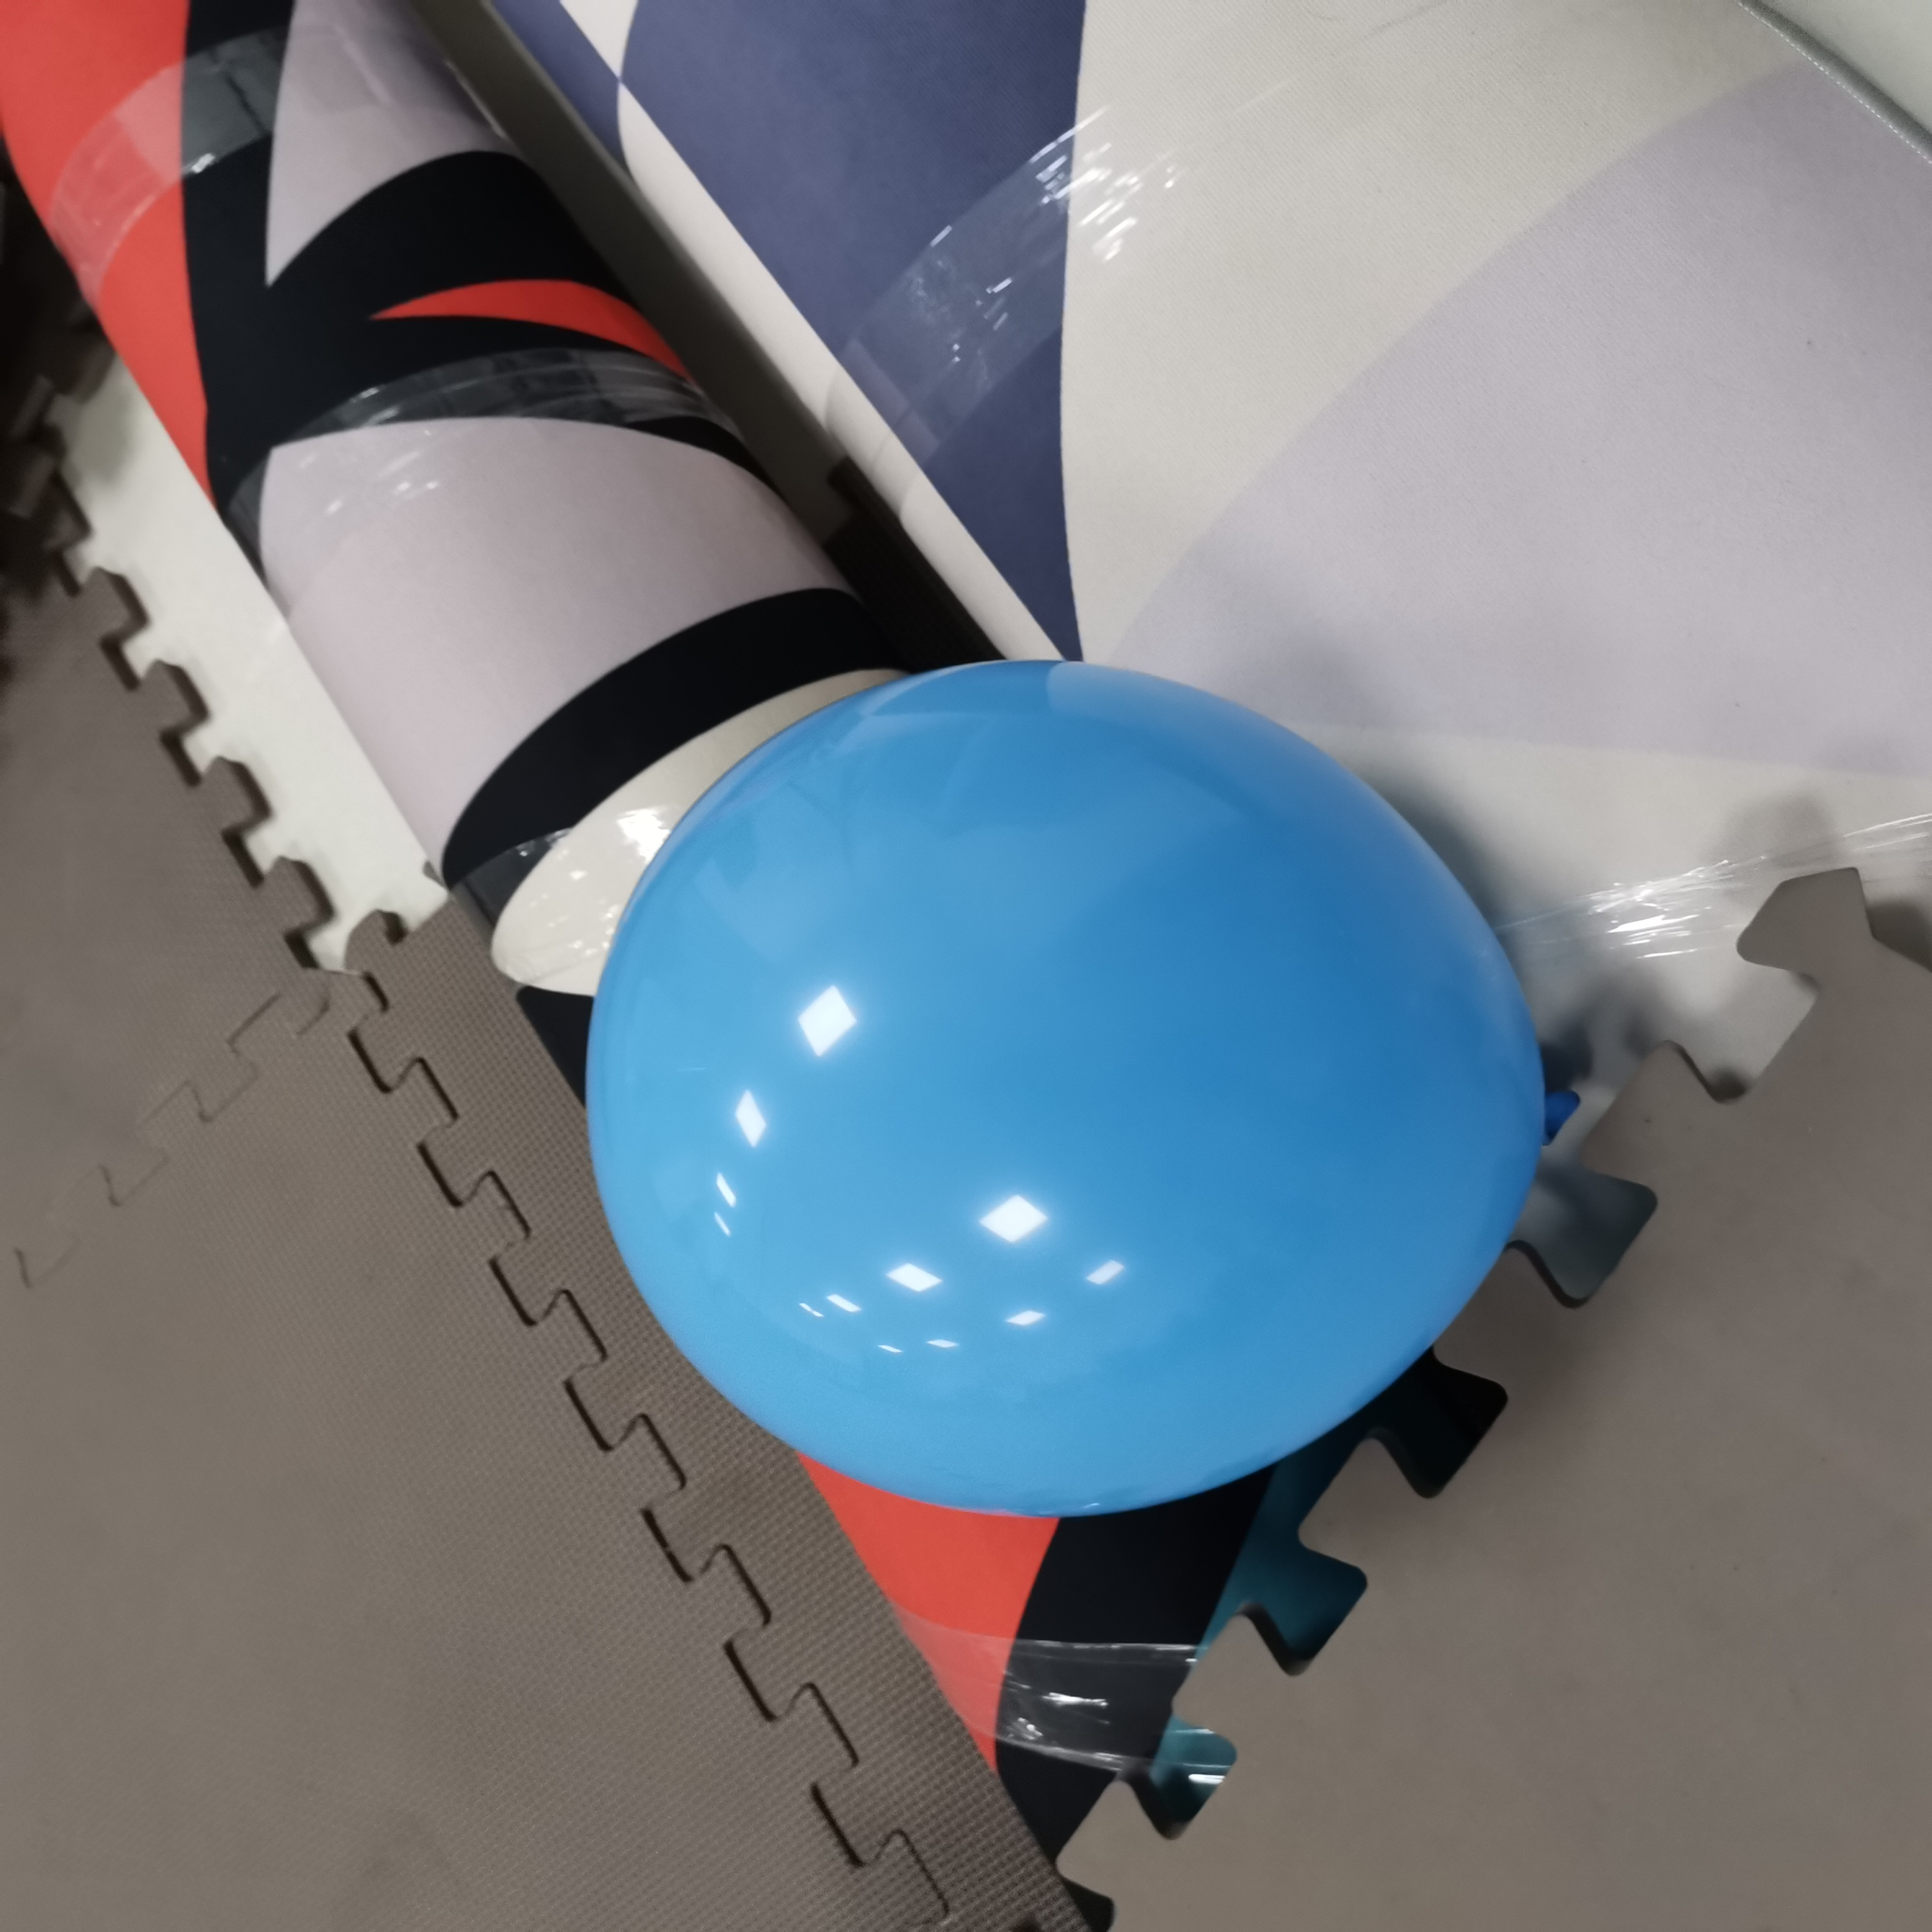balloon: (584, 665, 1557, 1522)
